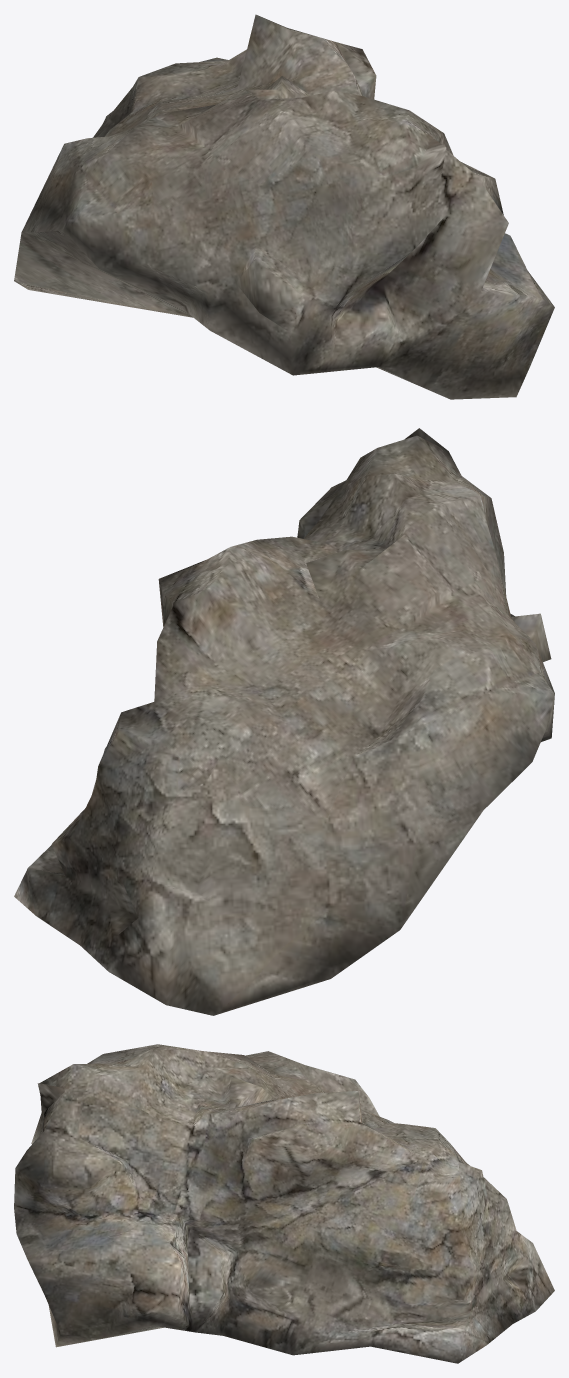
Rendered from rock-a.glb.
The picture shows the model from 3 angles, top to bottom: view 1: azimuth 30°, elevation 25°; view 2: azimuth 150°, elevation 25°; view 3: azimuth 270°, elevation 25°; orthographic projection. The views are drawn at different scales.
Visible parts, largest first — view 1: rock-a; view 2: rock-a; view 3: rock-a.
Part boxes in pixels (bbox=[...]): rock-a: bbox=[14, 14, 554, 399]; rock-a: bbox=[14, 428, 554, 1015]; rock-a: bbox=[14, 1044, 554, 1363].
Size of the model in its own units: 1.1 by 0.8611 by 1.57.
Materials: 1 (1 with a texture image).
